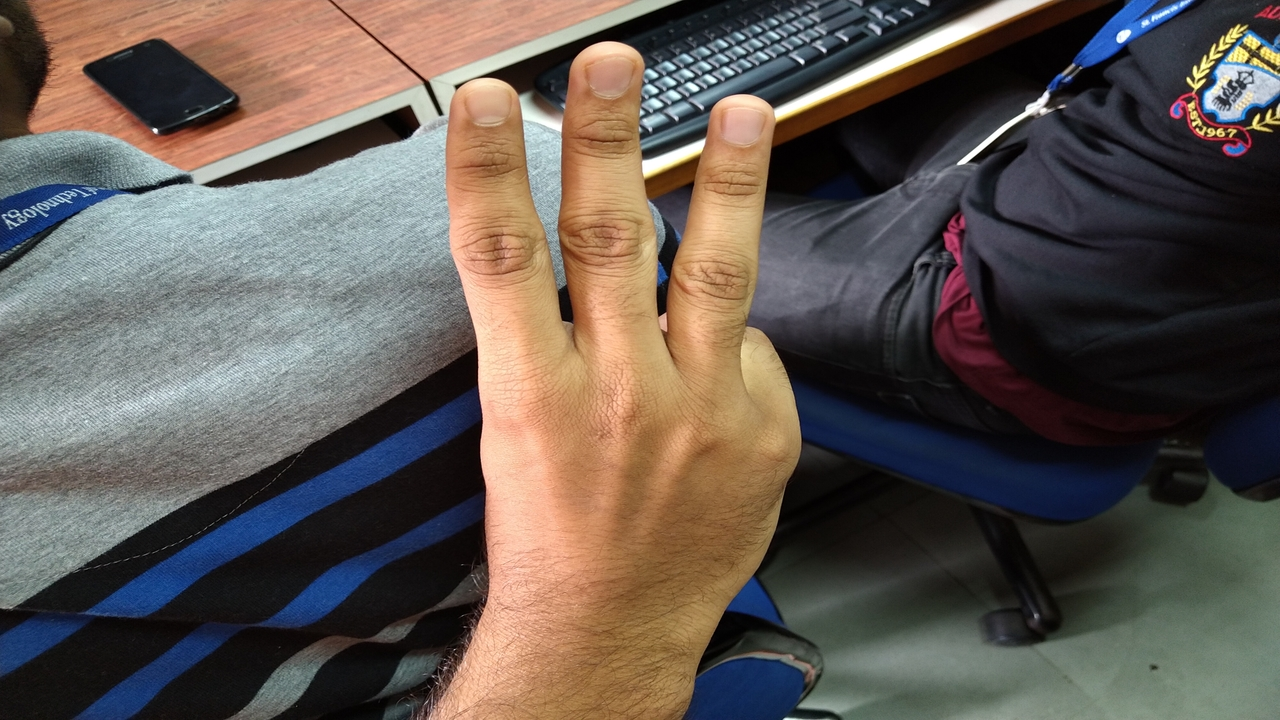fingertip: (700, 86, 786, 154), (438, 74, 524, 140), (566, 34, 644, 106)
